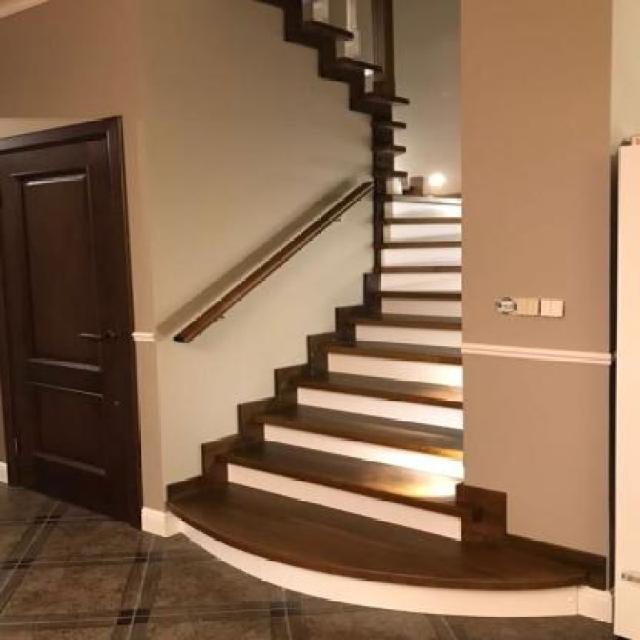stair: (92, 16, 514, 564)
